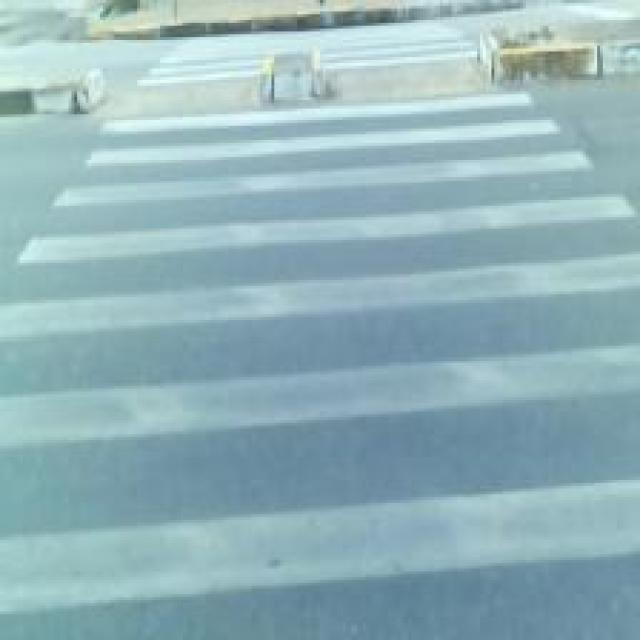zebra: (0, 14, 640, 622)
